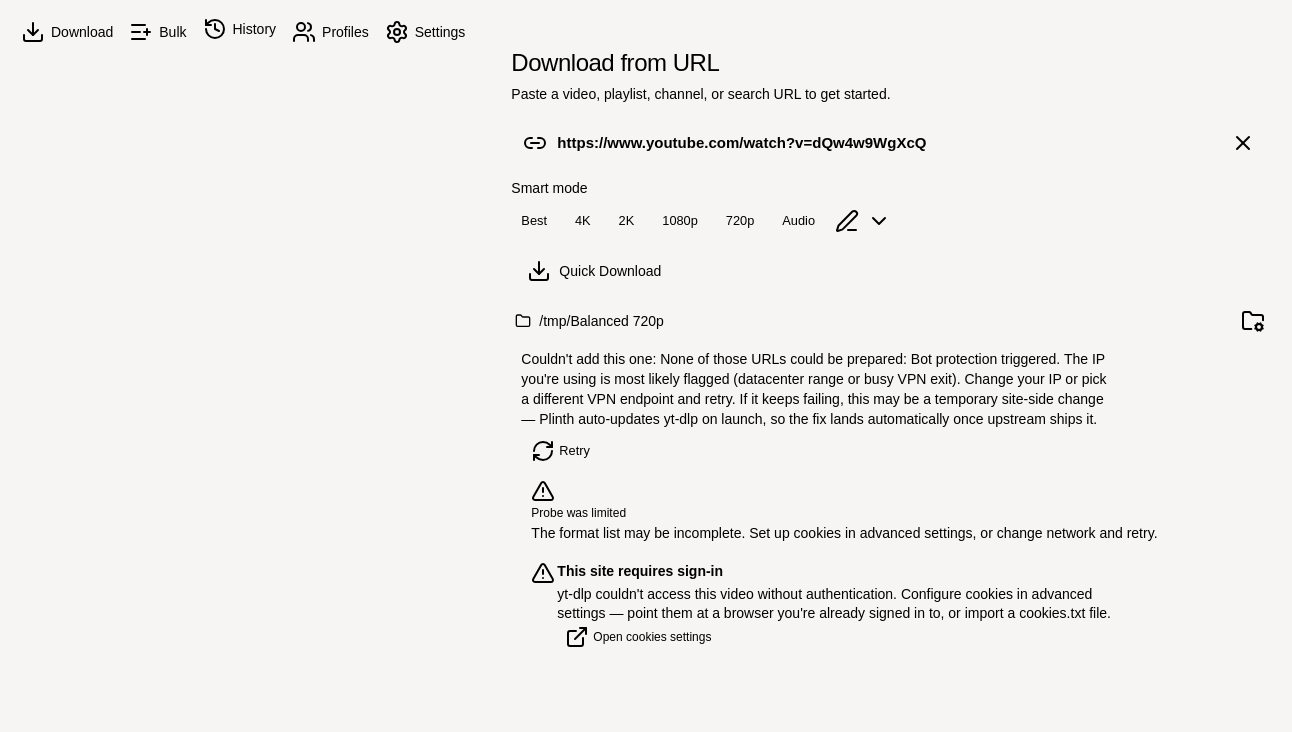
Test: incomplete cookies config guard › opens cookies settings from a Bulk URLs quick download bot-block failure
This screenshot has width=1292, height=732.
Expected: the message with test id "quick-download-feedback" shows "Bot protection triggered.", [521, 351, 1107, 427]
Expected: the message with test id "bot-wall-notice" shows "Probe was limited", [531, 506, 626, 520]
Click the button with test id "quick-download-cookies-settings": x=638, y=637 [557, 625, 719, 649]
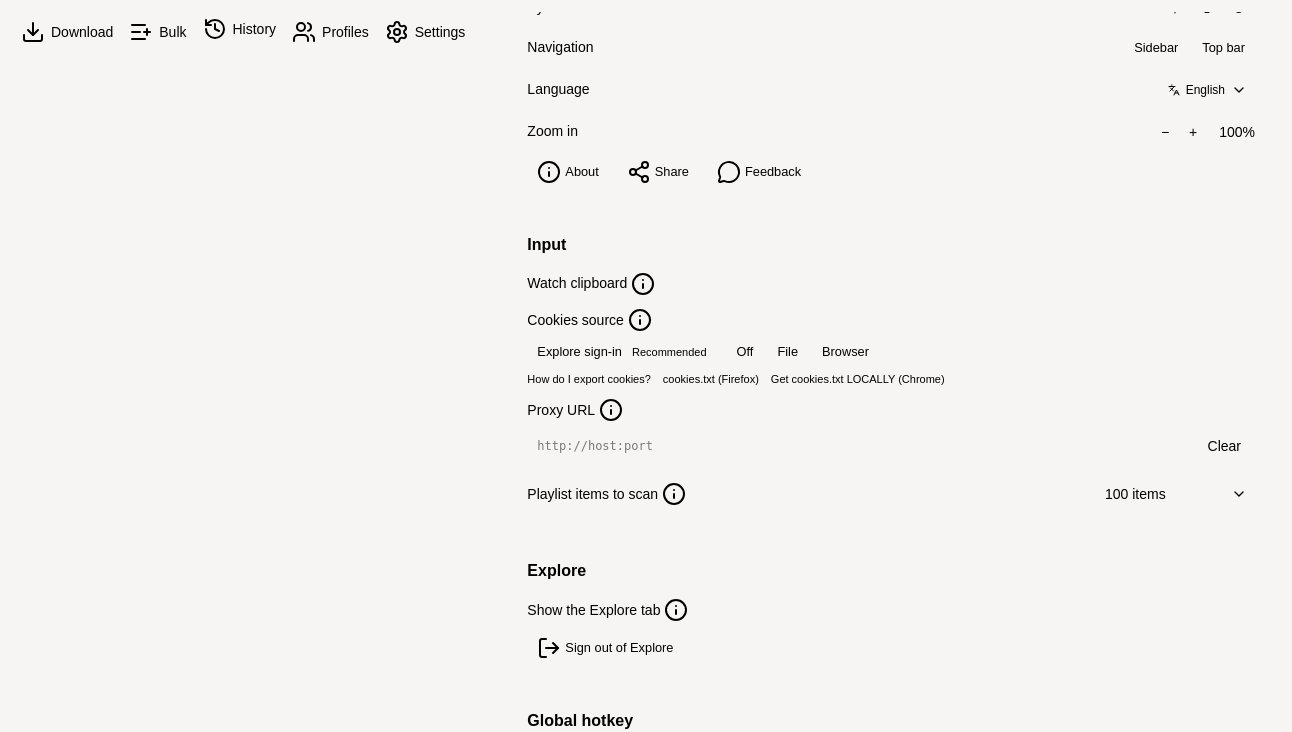
Now the element with test id "cookies-source" is shown, box [527, 308, 945, 386]
